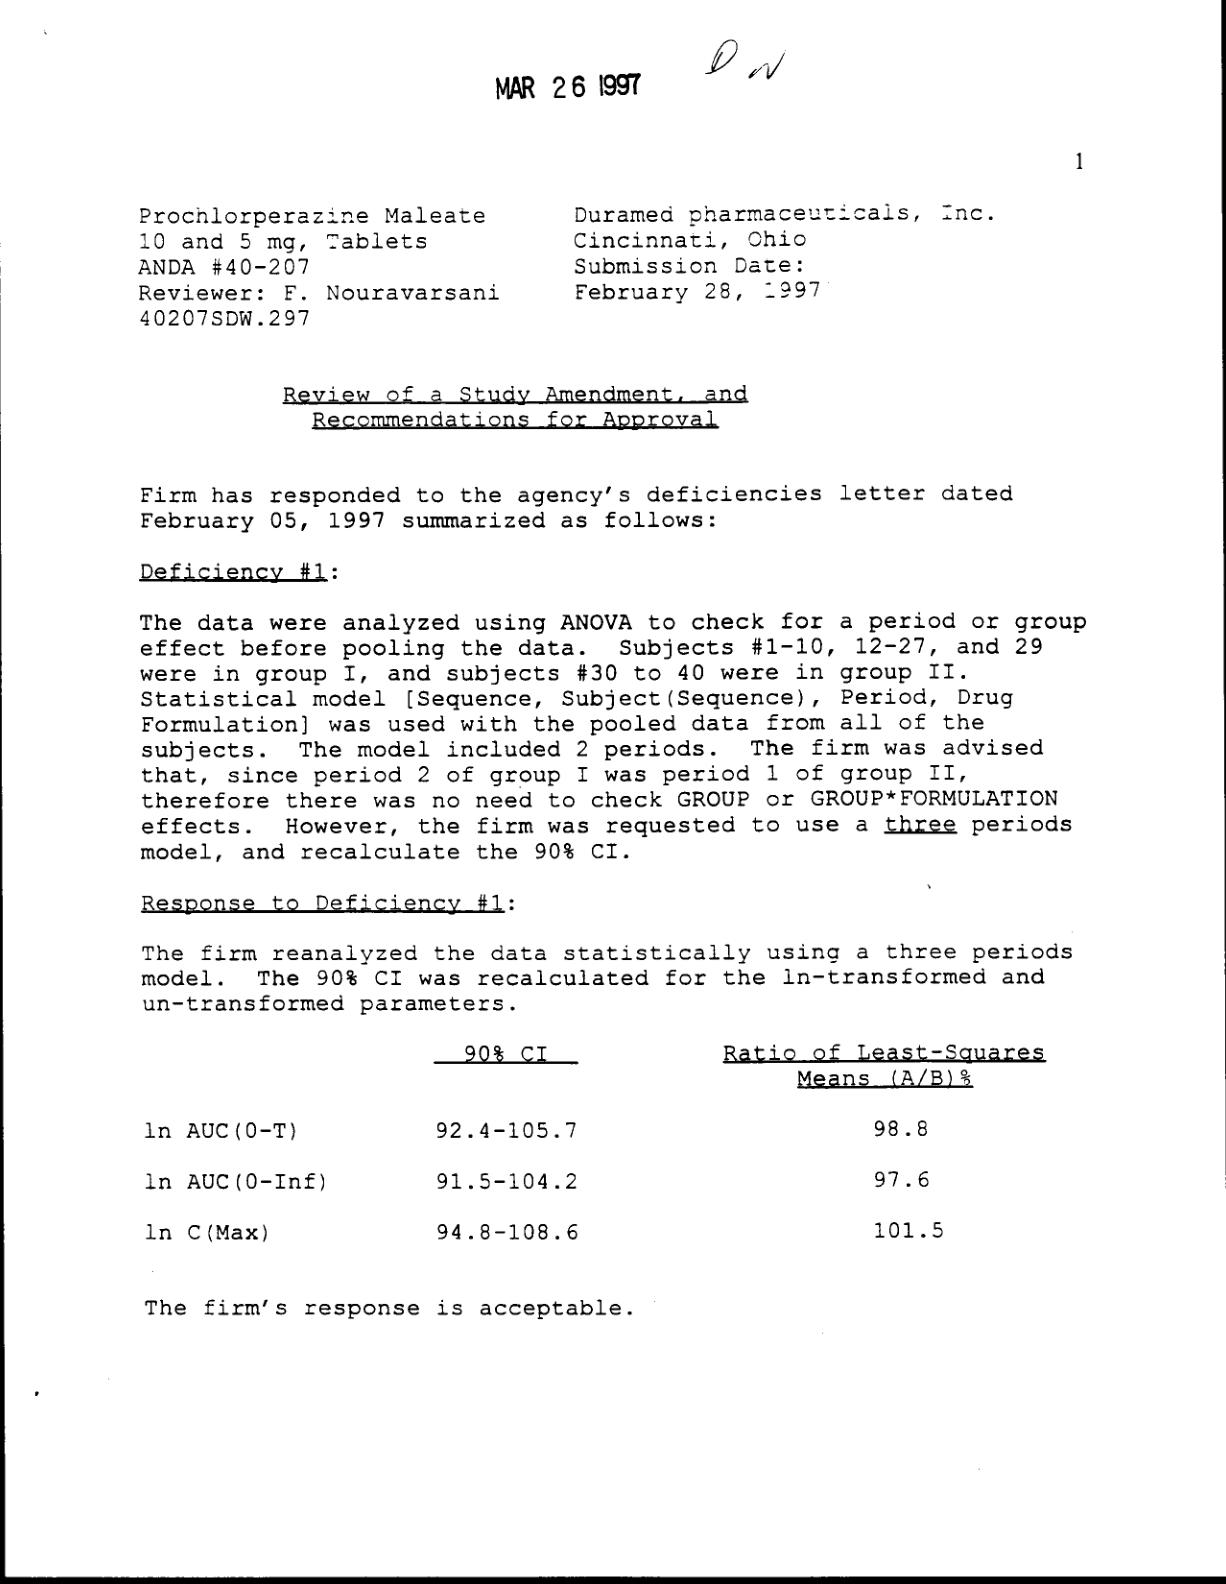nolines: (138, 1041, 1047, 1245)
